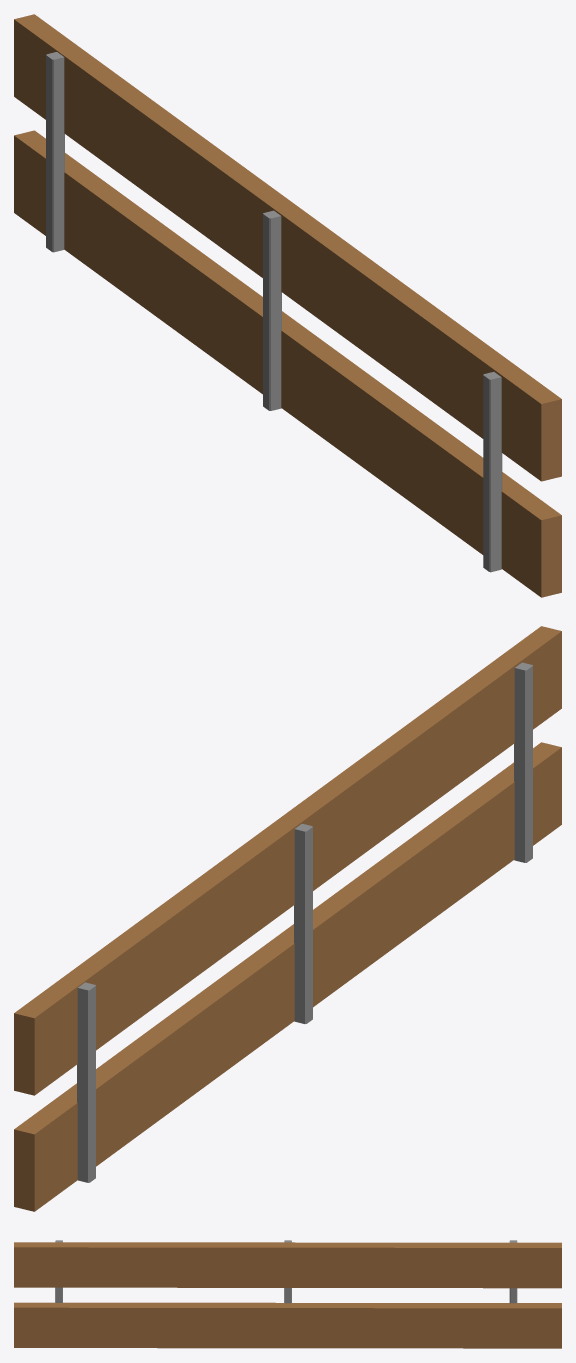
The model's file is Vallas bajas_UV.fbx.
3 renders of one model, top to bottom at view 1: azimuth 30°, elevation 25°; view 2: azimuth 150°, elevation 25°; view 3: azimuth 270°, elevation 25°, orthographic. The views are drawn at different scales.
Parts seen in each view (by area): view 1: Cube.186; view 2: Cube.186; view 3: Cube.186.
Boxes of the visible parts, left/top/right/bottom form: Cube.186: left=14, top=14, right=561, bottom=597; Cube.186: left=14, top=626, right=561, bottom=1211; Cube.186: left=14, top=1240, right=561, bottom=1348.
Size of the model in its own units: 23.75 by 137 by 674.
